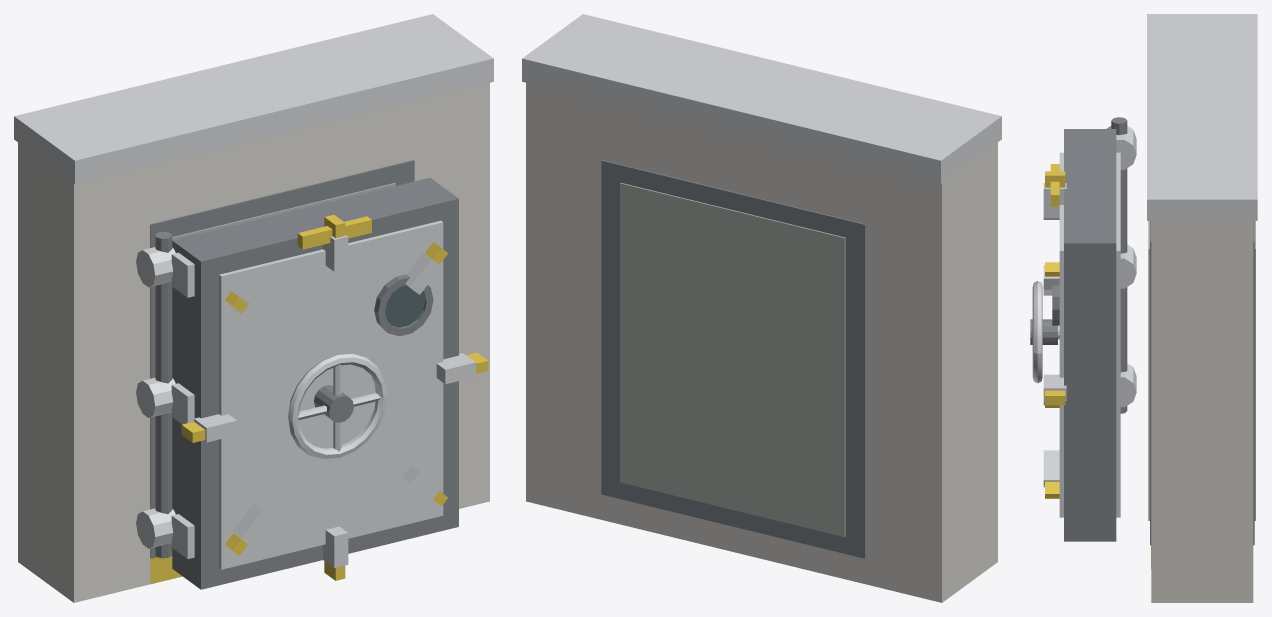
File: cold-war-missile-silo-and-command-bunker-capsule-blast-e2a7913e__15667.glb
3 views of the same model, side by side, from view 1: azimuth 30°, elevation 25°; view 2: azimuth 150°, elevation 25°; view 3: azimuth 270°, elevation 25° (orthographic). The views are drawn at different scales.
Visible parts, largest first — view 1: capsule-blast-door, blast-door (×4), locking-wheel (×2); view 2: capsule-blast-door; view 3: capsule-blast-door, blast-door (×3), locking-wheel (×2).
Boxes of the visible parts, bbox=[...] form: capsule-blast-door: bbox=[14, 14, 493, 602]; blast-door (×4): bbox=[171, 177, 488, 589]; locking-wheel (×2): bbox=[288, 353, 386, 459]; capsule-blast-door: bbox=[522, 14, 1001, 602]; capsule-blast-door: bbox=[1106, 14, 1257, 602]; blast-door (×3): bbox=[1043, 129, 1120, 541]; locking-wheel (×2): bbox=[1030, 281, 1059, 383].
Size of the model in its own units: 3.02 by 3.06 by 1.56.
